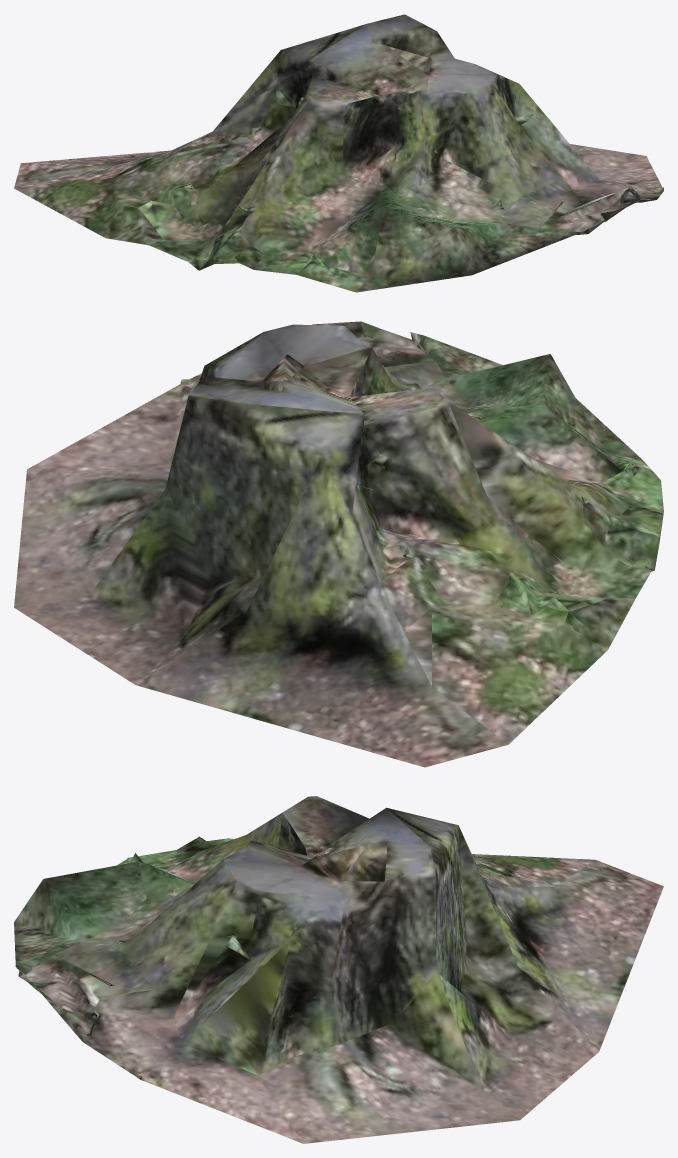
The model's file is stump.lod1.glb.
The picture shows the model from 3 angles, top to bottom: view 1: azimuth 30°, elevation 25°; view 2: azimuth 150°, elevation 25°; view 3: azimuth 270°, elevation 25°; orthographic projection. The views are drawn at different scales.
Parts seen in each view (by area): view 1: boubin_stump_boubin_stump_0; view 2: boubin_stump_boubin_stump_0; view 3: boubin_stump_boubin_stump_0.
Part boxes in pixels (bbox=[...]): boubin_stump_boubin_stump_0: bbox=[14, 14, 663, 292]; boubin_stump_boubin_stump_0: bbox=[14, 321, 663, 767]; boubin_stump_boubin_stump_0: bbox=[14, 796, 663, 1143].
Bounding box in the file's own units: 1.59 × 0.514 × 1.52.
1 material, 1 textured.
